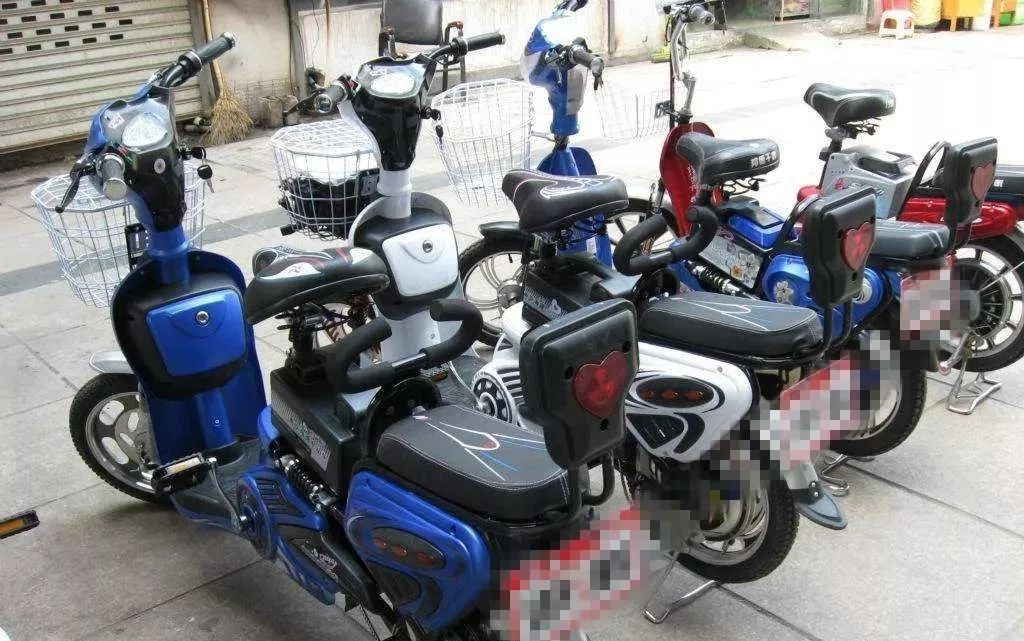non-vehicle: (44, 102, 638, 641), (293, 39, 805, 581), (518, 19, 904, 416), (664, 12, 1024, 369)
